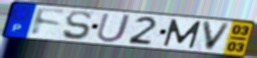2: (127, 15, 159, 47)
F: (30, 7, 68, 38)
M: (162, 18, 203, 50)
S: (61, 10, 93, 41)
U: (94, 12, 133, 44)
V: (201, 20, 233, 52)
